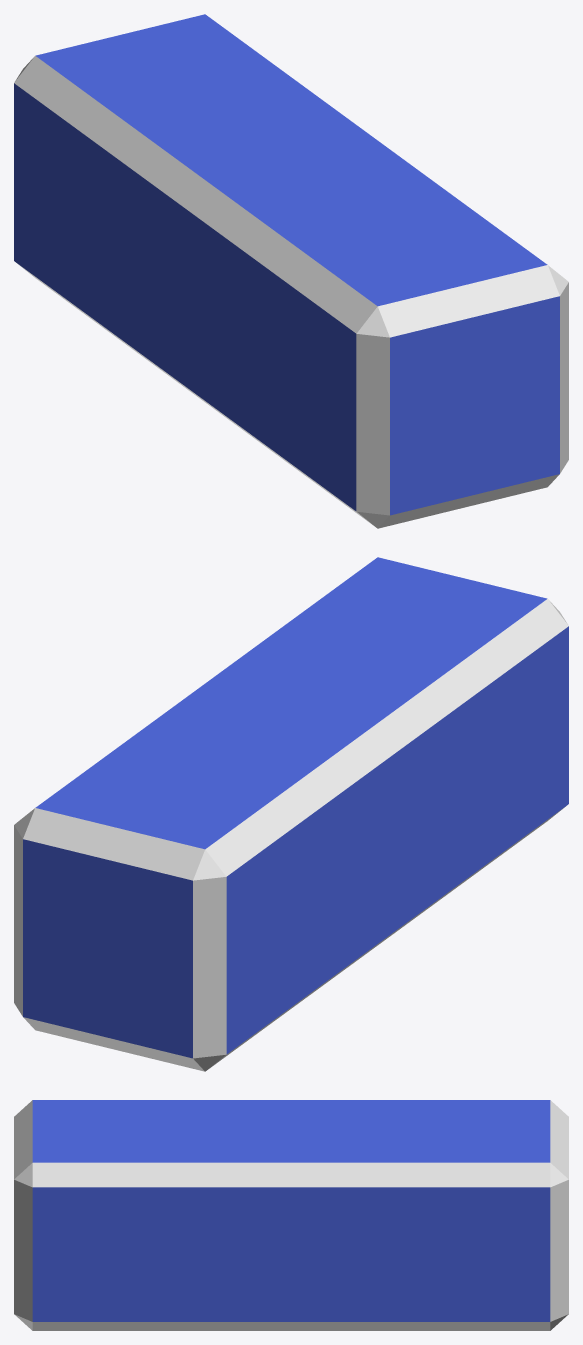
Rendered from Zid 1x3.fbx.
3 renders of one model, top to bottom at view 1: azimuth 30°, elevation 25°; view 2: azimuth 150°, elevation 25°; view 3: azimuth 270°, elevation 25°, orthographic. The views are drawn at different scales.
Parts seen in each view (by area): view 1: Cube.011; view 2: Cube.011; view 3: Cube.011.
Boxes of the visible parts, x1,y1,x2,y2 form: Cube.011: (14,14,568,528); Cube.011: (14,557,568,1071); Cube.011: (14,1100,568,1330).
Size of the model in its own units: 1 by 1 by 2.99.
